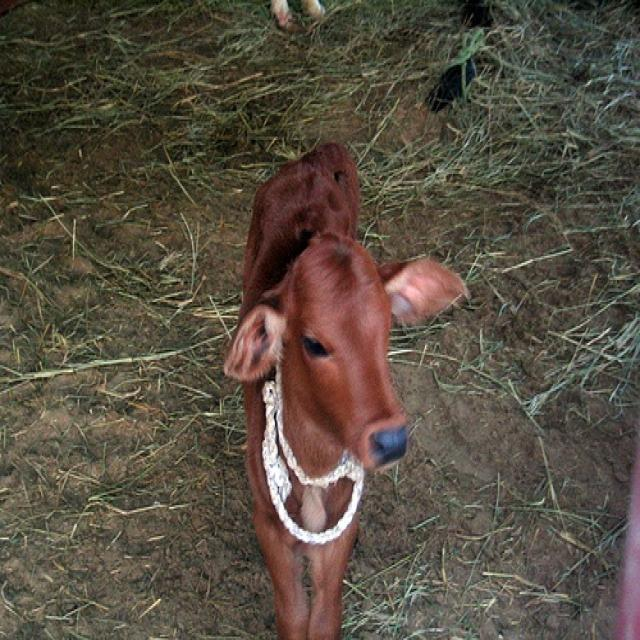cow: (221, 138, 471, 638)
